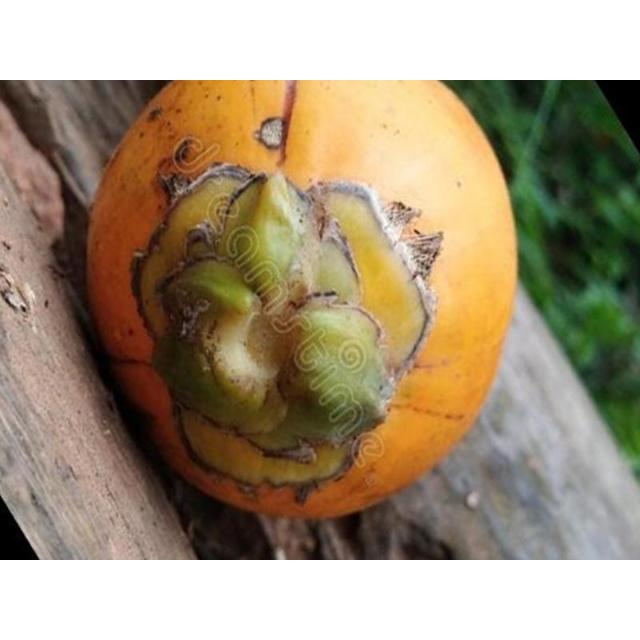good: (87, 80, 520, 522)
